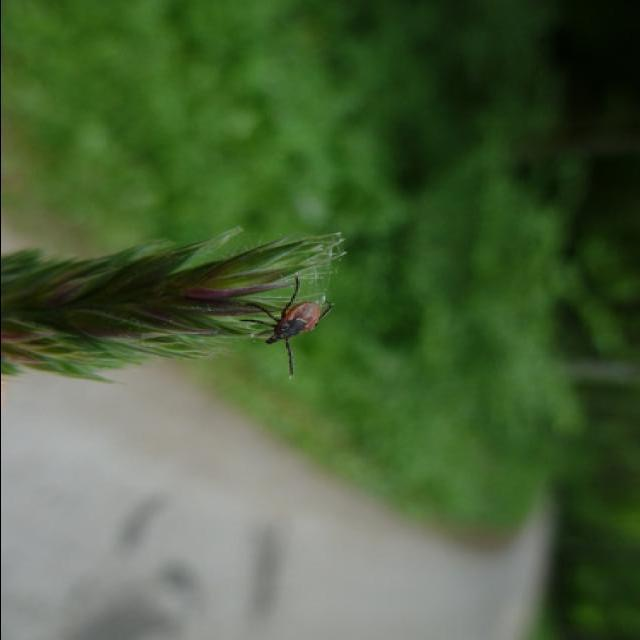Ixodes Ricinus-F: (237, 279, 331, 376)
